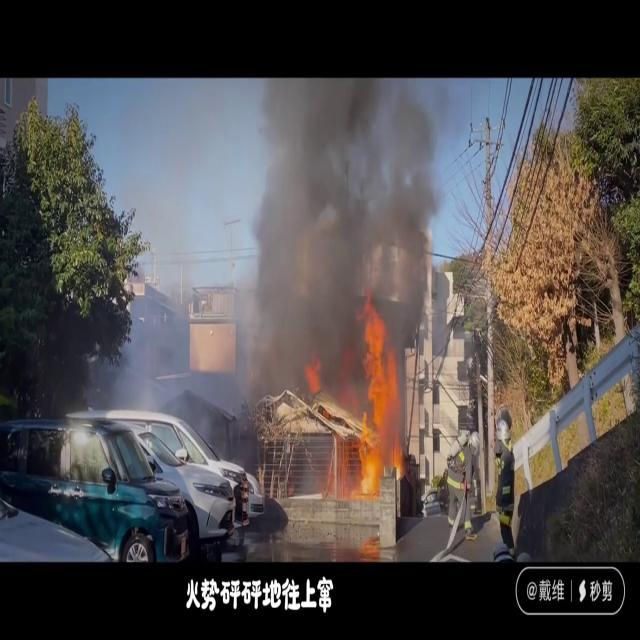Fire: (320, 302, 405, 494), (392, 441, 404, 484)
Smoke: (224, 78, 446, 390)
